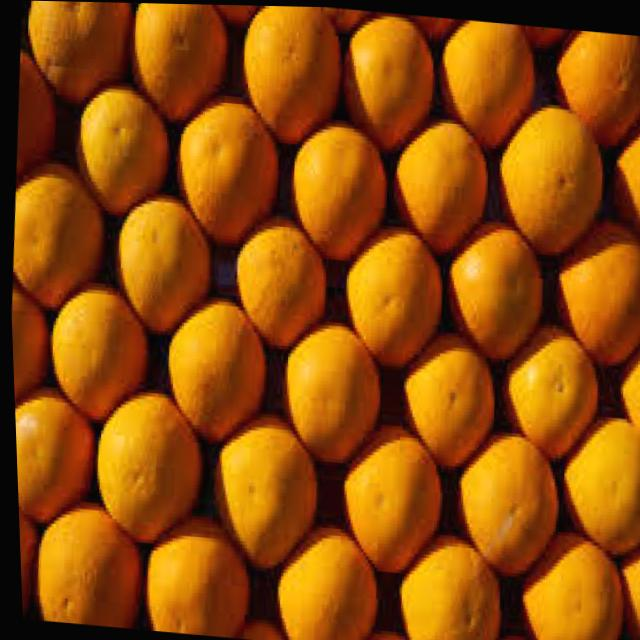orange: (202, 415, 320, 573), (86, 388, 203, 546), (493, 97, 607, 256), (170, 94, 283, 248), (333, 425, 445, 576), (156, 294, 269, 443), (449, 427, 560, 576), (337, 225, 447, 370), (284, 116, 391, 262), (276, 318, 383, 464), (236, 4, 346, 145), (42, 281, 150, 423), (108, 192, 214, 336), (6, 165, 109, 313), (441, 219, 547, 362), (336, 7, 440, 151), (394, 328, 500, 469), (26, 501, 141, 628), (386, 115, 490, 255), (434, 16, 540, 150), (135, 518, 251, 638), (497, 322, 600, 457), (70, 83, 172, 219), (226, 217, 330, 348), (124, 2, 235, 124), (547, 220, 640, 364), (266, 522, 378, 640), (553, 411, 640, 553), (511, 530, 622, 640), (388, 533, 500, 640), (11, 388, 96, 525), (22, 0, 130, 99), (551, 26, 640, 145)
